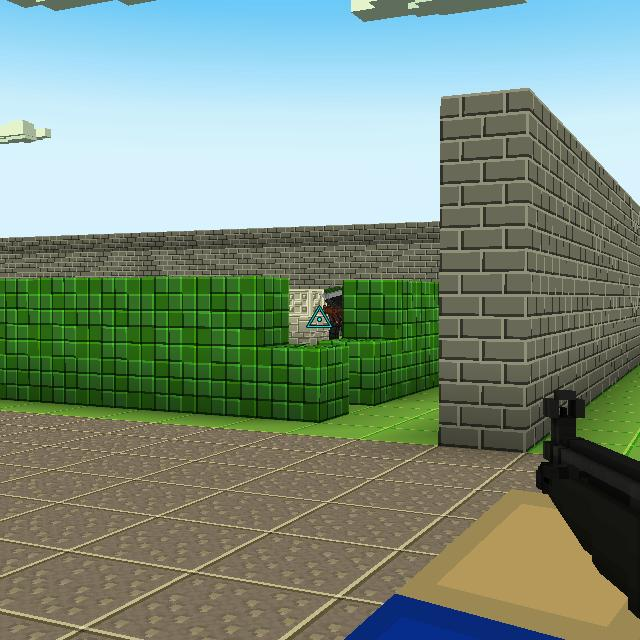enemy: (321, 283, 346, 340)
